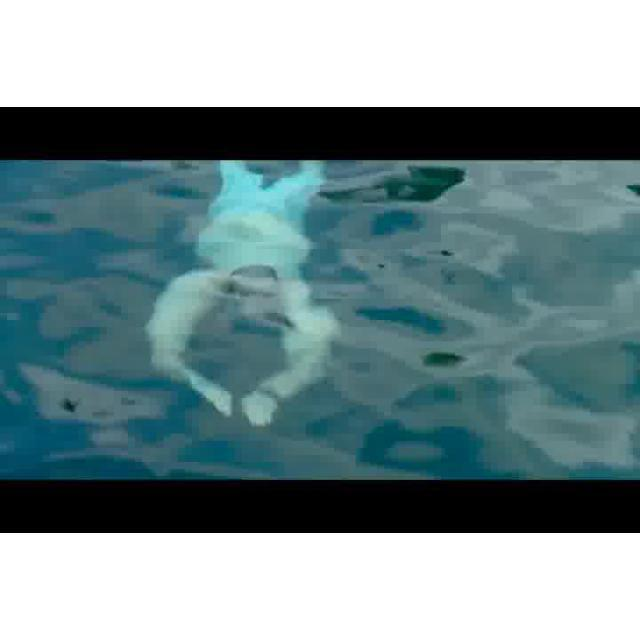human: (150, 161, 349, 430)
